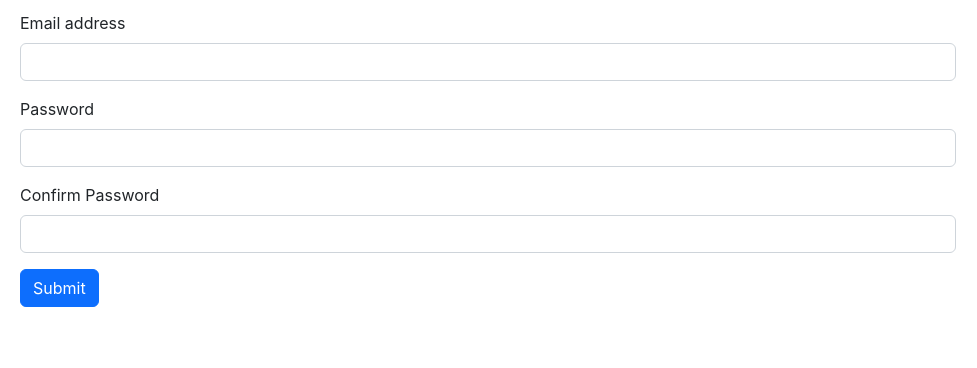
Scenario: App › Error Handling › should show confirm password error if passwords don't match
This screenshot has width=977, height=368.
Expected: the text "the passwords don't match. try again" is not shown
Type "selena@gmail.com" into the field labelled "Email address". click: (488, 62)
box: [20, 43, 956, 81]
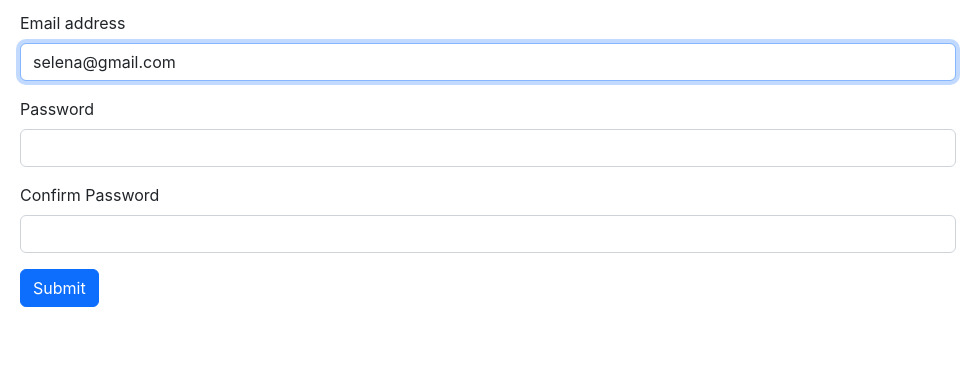
Type "12345" into the password field labelled "Password". click: (488, 148)
box: [20, 129, 956, 167]
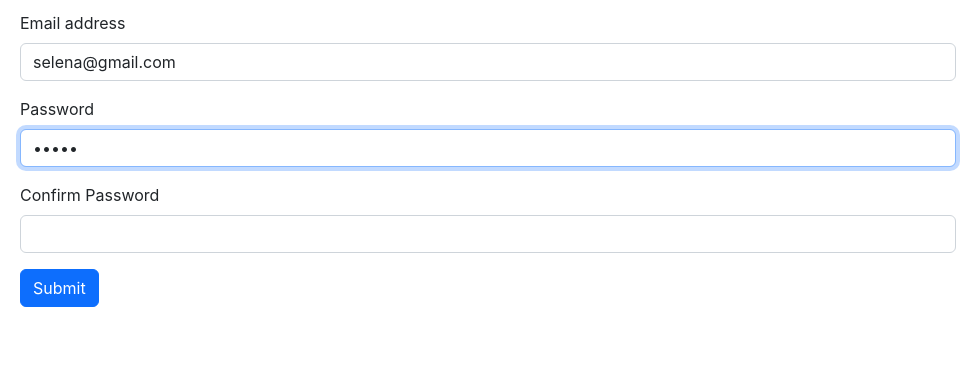
Type "123" into the password field labelled "Confirm Password". click: (488, 234)
box: [20, 215, 956, 253]
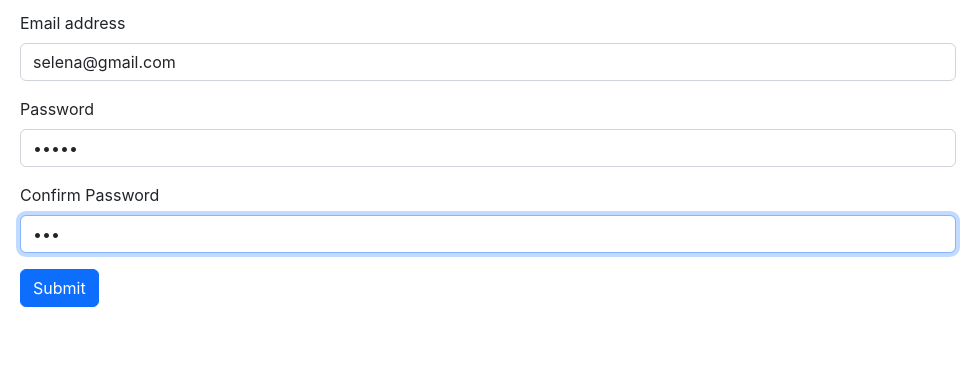
Click the button "Submit". click: (59, 288)
box: [20, 269, 99, 307]
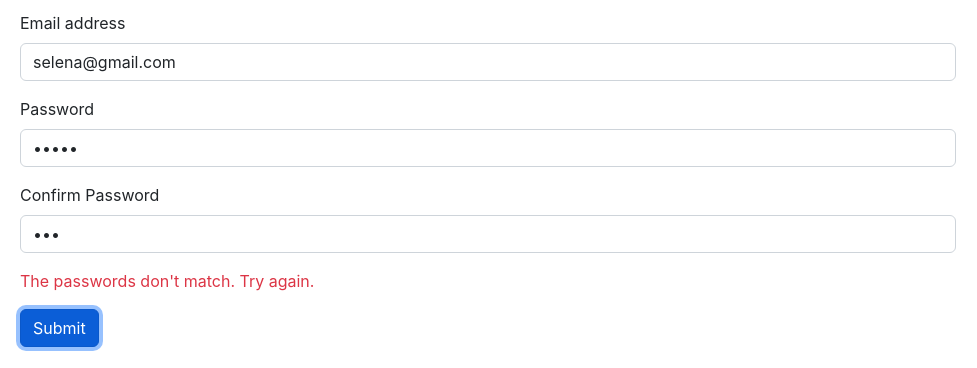
Expected: the text "The passwords don't match. Try again." is shown, [20, 271, 314, 291]
